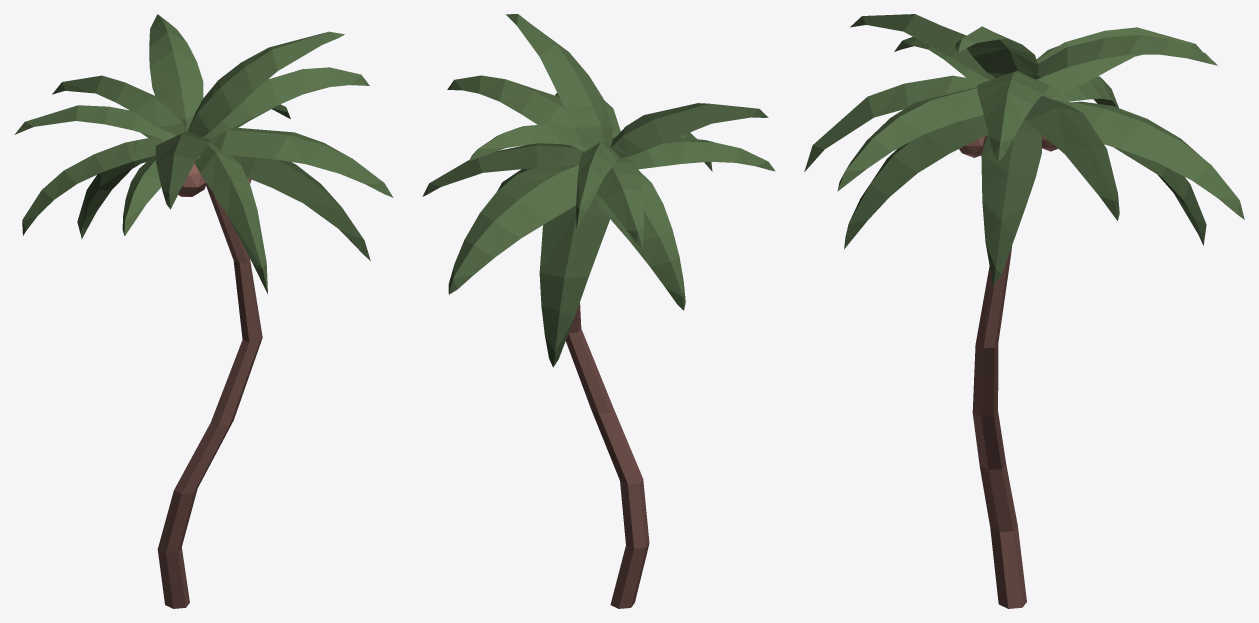
Rendered from veg-palma-b.glb.
3 views of the same model, side by side, from view 1: azimuth 30°, elevation 25°; view 2: azimuth 150°, elevation 25°; view 3: azimuth 270°, elevation 25° (orthographic). The views are drawn at different scales.
Visible parts, largest first — view 1: PalmTree_4; view 2: PalmTree_4; view 3: PalmTree_4.
Part boxes in pixels (<box>): PalmTree_4: <box>14,14,393,608</box>; PalmTree_4: <box>422,14,775,608</box>; PalmTree_4: <box>804,14,1244,608</box>.
Bounding box in the file's own units: 1.8 × 3.25 × 2.04.
